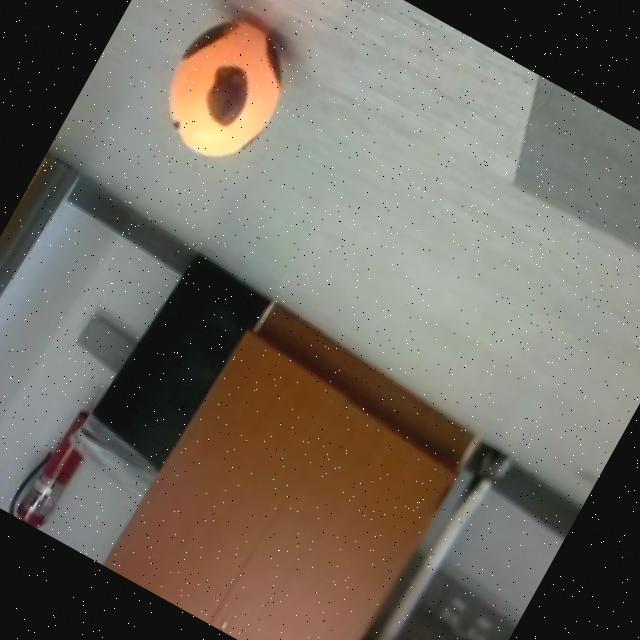ping-pong-ball: (133, 0, 315, 184)
